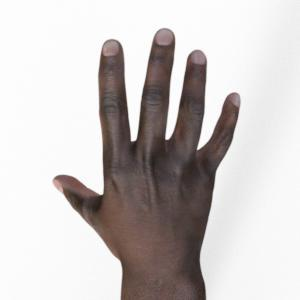paper: (53, 29, 240, 300)
